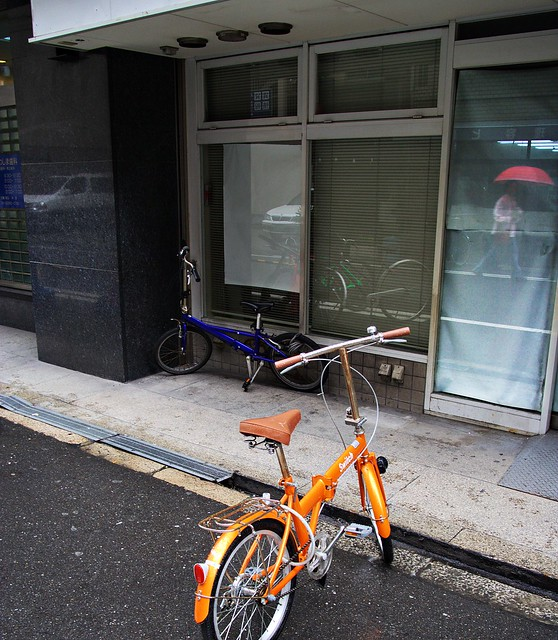backpack: (283, 334, 322, 356)
baseball bat: (267, 326, 412, 381)
bench: (0, 397, 294, 530), (151, 279, 413, 393), (25, 175, 160, 382), (183, 248, 425, 360), (233, 314, 420, 389), (321, 240, 425, 320)
bicycle: (223, 340, 558, 633), (59, 358, 399, 595), (191, 333, 411, 640), (164, 280, 388, 467), (0, 397, 294, 530), (178, 300, 333, 534), (161, 253, 415, 377), (242, 260, 443, 411), (190, 413, 331, 626), (59, 313, 285, 434), (146, 303, 275, 502), (78, 258, 249, 407), (180, 188, 313, 375), (150, 267, 329, 405), (240, 245, 430, 347), (308, 230, 422, 386), (208, 308, 413, 389), (314, 244, 465, 344), (274, 216, 428, 312), (266, 279, 408, 374), (153, 257, 283, 353), (176, 280, 314, 368), (167, 315, 307, 396), (221, 289, 376, 353), (204, 264, 338, 338), (245, 244, 387, 311), (192, 531, 277, 639), (261, 268, 399, 332), (293, 313, 414, 382), (341, 270, 429, 356), (154, 244, 207, 385), (324, 242, 421, 316), (158, 305, 253, 375), (304, 255, 395, 320), (312, 238, 379, 307), (282, 254, 363, 308), (338, 233, 406, 297), (296, 232, 352, 303), (365, 257, 425, 318), (366, 231, 411, 308), (169, 243, 201, 347), (153, 320, 210, 376), (333, 255, 388, 307), (331, 237, 369, 294), (311, 249, 347, 304), (321, 262, 363, 303), (336, 258, 368, 291)
book: (450, 10, 558, 69), (0, 100, 32, 220), (0, 152, 25, 213)
bottle: (242, 327, 290, 356), (249, 332, 270, 359), (244, 329, 265, 354), (231, 333, 255, 354)
bus: (18, 9, 551, 415), (20, 64, 257, 392), (427, 21, 558, 451)
car: (20, 64, 257, 392), (427, 65, 557, 456), (152, 254, 383, 392), (28, 186, 161, 398), (23, 175, 200, 315), (20, 169, 120, 345), (5, 132, 112, 228), (4, 158, 83, 277), (17, 172, 110, 257), (351, 248, 425, 317), (24, 175, 110, 217), (24, 180, 76, 214), (40, 177, 92, 211), (41, 174, 110, 199), (311, 263, 346, 306)
cell phone: (490, 166, 556, 271)
chair: (30, 206, 179, 409), (156, 251, 351, 396), (180, 188, 313, 375), (22, 177, 131, 376), (325, 242, 423, 318), (481, 171, 545, 278), (369, 258, 426, 318), (237, 409, 302, 447), (256, 291, 299, 333), (312, 263, 346, 307), (263, 205, 301, 222)
couch: (22, 178, 132, 383)
cup: (23, 192, 153, 407)
dining table: (30, 206, 179, 409), (22, 177, 131, 376)
handbag: (22, 177, 131, 376), (238, 409, 301, 447), (311, 263, 346, 307), (283, 334, 322, 356)
microwave: (427, 42, 558, 448)
motorcycle: (161, 253, 415, 377), (154, 269, 328, 409), (208, 308, 413, 389), (351, 248, 425, 317), (312, 262, 346, 307)
oven: (425, 74, 558, 455), (23, 179, 134, 381), (249, 203, 303, 291)
parking meter: (424, 113, 558, 463), (22, 177, 131, 376), (22, 174, 110, 287)
person: (244, 254, 522, 622), (197, 315, 431, 637), (431, 158, 558, 441), (154, 261, 399, 396), (185, 225, 325, 397), (450, 126, 558, 308), (21, 179, 118, 362), (325, 242, 423, 318), (487, 165, 551, 278), (449, 173, 502, 275), (476, 182, 526, 279), (367, 232, 421, 315), (338, 233, 406, 297), (496, 193, 537, 280), (490, 164, 556, 214), (505, 171, 552, 233), (490, 195, 519, 271), (481, 186, 515, 250), (492, 172, 531, 227), (356, 234, 395, 289), (370, 229, 403, 287), (376, 217, 408, 270), (492, 191, 522, 234), (449, 176, 483, 212), (492, 167, 554, 186), (492, 192, 519, 215)
refrigerator: (427, 21, 558, 451), (441, 56, 558, 290), (23, 179, 134, 381), (249, 203, 303, 293)
skateboard: (157, 293, 419, 398), (267, 326, 412, 381), (284, 323, 405, 358)
skis: (267, 326, 412, 381)
suitcase: (424, 113, 558, 463), (19, 230, 237, 381), (23, 179, 134, 381), (28, 194, 106, 335)
surfboard: (267, 326, 412, 381)
tennis racket: (189, 340, 413, 640), (148, 268, 407, 396), (208, 308, 413, 389), (267, 326, 412, 381), (324, 242, 421, 316), (365, 257, 425, 318)
toilet: (21, 181, 119, 375)
train: (18, 7, 399, 352)
truck: (18, 7, 399, 352), (20, 64, 257, 392), (22, 177, 131, 376), (18, 173, 108, 287), (25, 174, 113, 216)
tv: (427, 21, 558, 451), (441, 56, 558, 290), (22, 177, 131, 376), (199, 124, 309, 314), (475, 169, 555, 277), (249, 203, 303, 293)
umbrella: (492, 167, 554, 186)
wine glass: (191, 329, 411, 640), (153, 252, 328, 396)
zebra: (153, 258, 386, 396)
